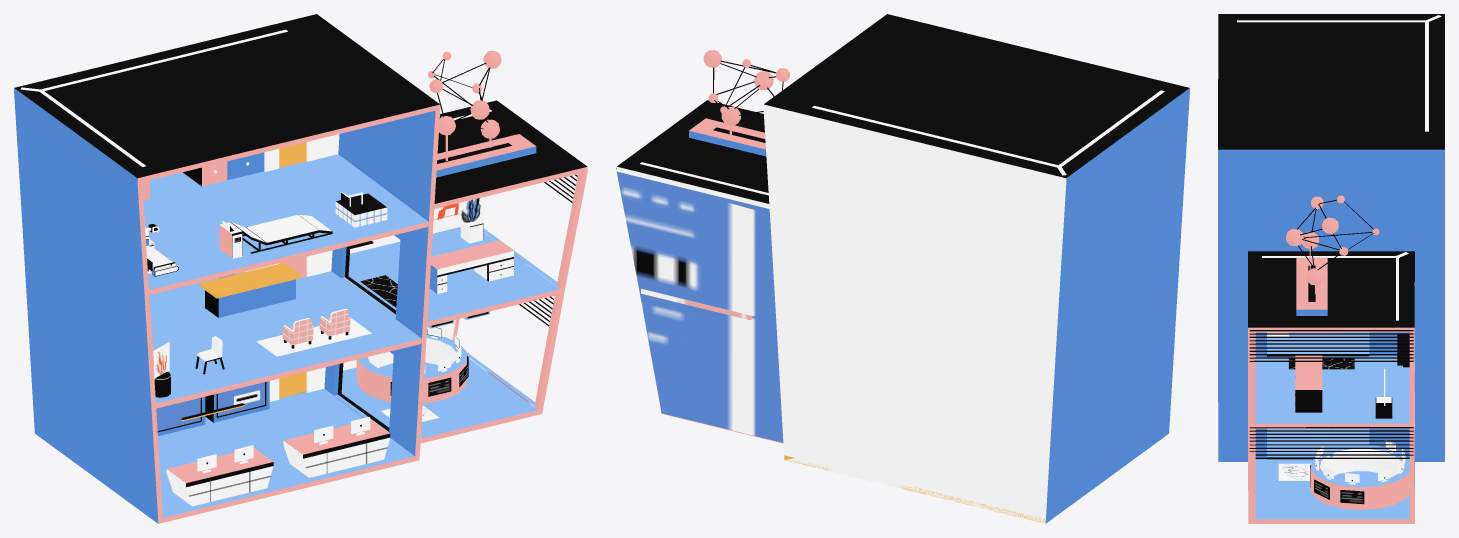
File: 智慧医疗.fbx
3 renders of one model, left to right at view 1: azimuth 30°, elevation 25°; view 2: azimuth 150°, elevation 25°; view 3: azimuth 270°, elevation 25°, orthographic. The views are drawn at different scales.
Parts seen in each view (by area): view 1: 布尔_1, 立方体_3_10, 立方体_3_11, zhuozi_, 圆桌, 立方体_2_4, 立方体_18, 立方体_1_3, 立方体_1_9, 立方体_1_5, 球体_8_2, louding (+6 smaller); view 2: 布尔_1, louding, 立方体_18, 球体_8_2; view 3: 布尔_1, 圆桌, 立方体_11_2, 立方体_1_11, 立方体_18, 立方体_2_4, louding, 球体_8_2, 立方体_15, 立方体_16_2, 立方体_1_6, huanpen (+2 smaller).
Boxes of the visible parts, x1,y1,x2,y2 form: 布尔_1: (14,14,587,523); 立方体_3_10: (166,448,273,506); 立方体_3_11: (283,419,390,477); zhuozi_: (200,262,300,317); 圆桌: (356,334,466,403); 立方体_2_4: (429,240,513,293); 立方体_18: (436,134,536,177); 立方体_1_3: (230,214,332,245); 立方体_1_9: (205,381,269,422); 立方体_1_5: (142,152,264,200); 球体_8_2: (428,50,501,138); louding: (20,29,491,166); 布尔_1: (616,14,1189,523); louding: (640,90,1164,195); 立方体_18: (689,118,766,156); 球体_8_2: (703,50,789,125); 布尔_1: (1218,14,1444,523); 圆桌: (1310,445,1409,509); 立方体_11_2: (1249,330,1413,361); 立方体_1_11: (1249,427,1413,458); 立方体_18: (1296,257,1327,315); 立方体_2_4: (1295,355,1322,412); louding: (1237,15,1441,320); 球体_8_2: (1286,195,1379,285); 立方体_15: (1278,463,1311,480); 立方体_16_2: (1297,199,1373,270); 立方体_1_6: (1288,358,1354,369); huanpen: (1375,397,1392,418).
Size of the model in its own units: 1485 by 1066 by 680.
